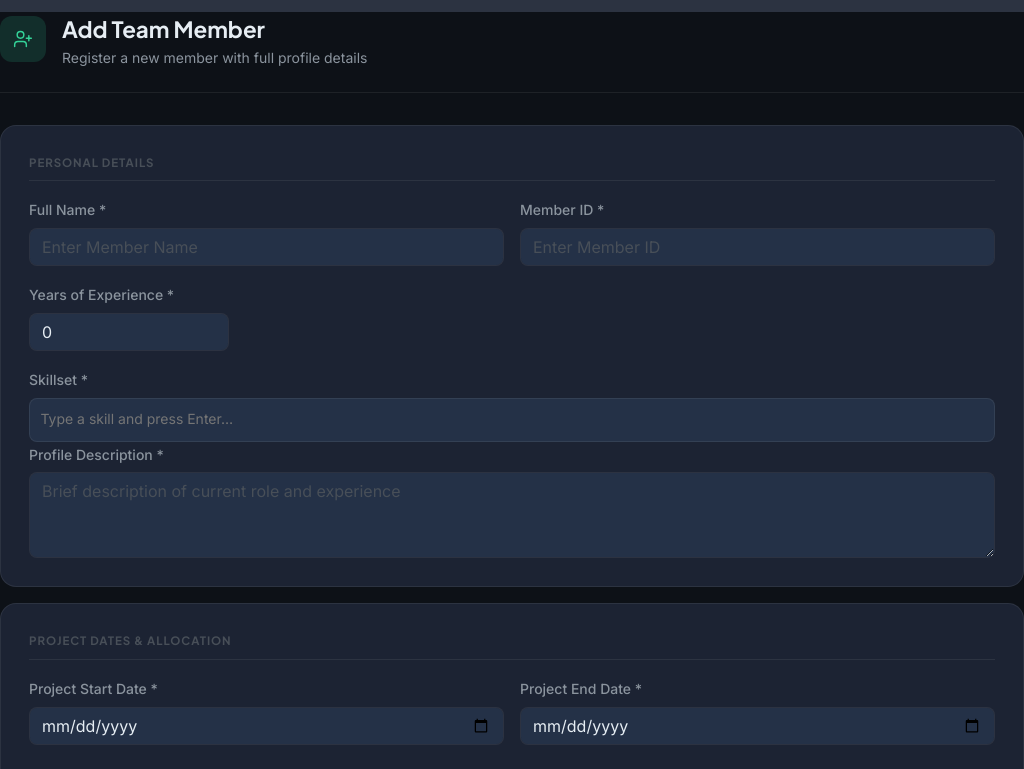
AddMemberPage › should show error for experience <= 4
The image size is (1024, 769).
Replace the text in the number field labelled "Years of Experience *" with "3" at (129, 332), box [29, 313, 229, 351]
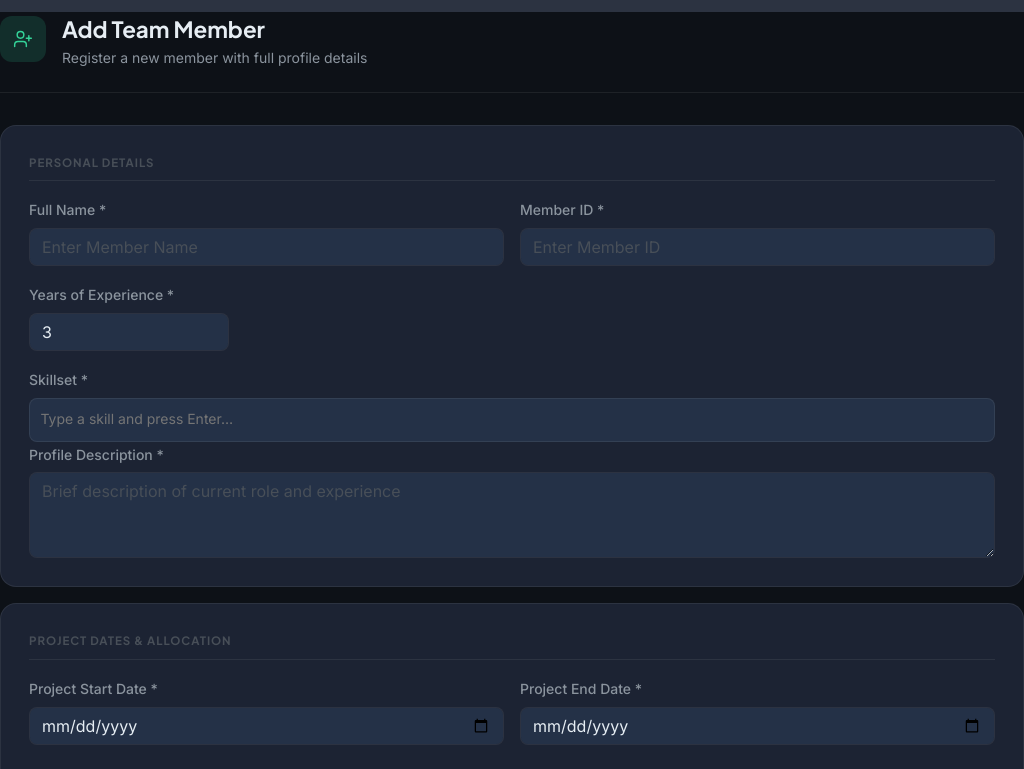
Leave the number field labelled "Years of Experience *", box [29, 313, 229, 351]
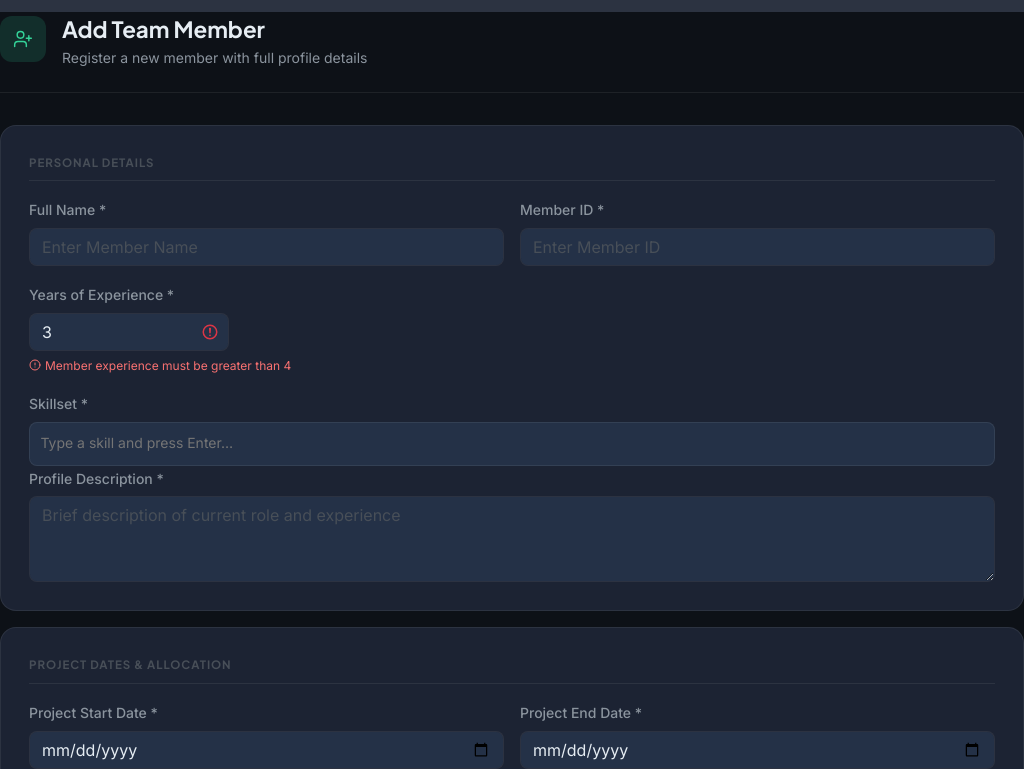
Now the text "Member experience must be greater than 4" is shown, box [29, 358, 291, 373]
